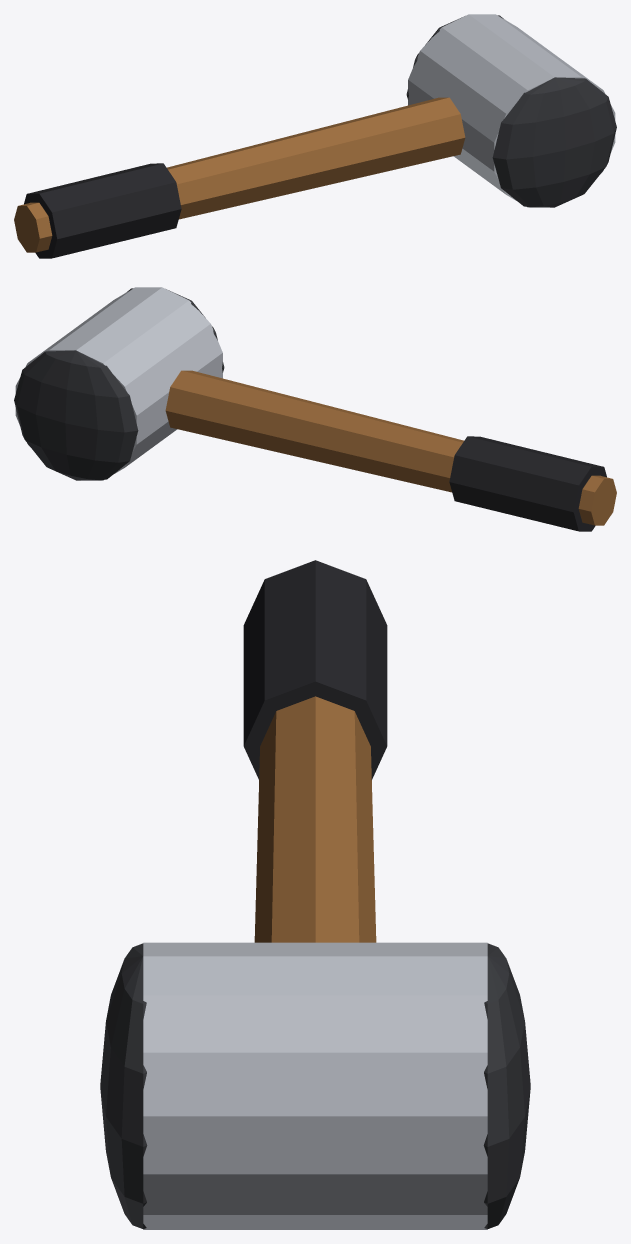
File: garage_dent_hammer.glb
3 views of the same model, one above another, from view 1: azimuth 30°, elevation 25°; view 2: azimuth 150°, elevation 25°; view 3: azimuth 270°, elevation 25° (orthographic). The views are drawn at different scales.
Visible parts, largest first — view 1: handle_wood, head_tool_chrome, faces_lift_dark, grip_flash_black; view 2: handle_wood, head_tool_chrome, faces_lift_dark, grip_flash_black; view 3: head_tool_chrome, handle_wood, grip_flash_black, faces_lift_dark (×2).
Boxes of the visible parts, box(x1,y1,x2,y2) form: handle_wood: box(14, 97, 465, 252); head_tool_chrome: box(408, 14, 615, 207); faces_lift_dark: box(492, 77, 616, 207); grip_flash_black: box(24, 163, 181, 258); handle_wood: box(165, 370, 616, 525); head_tool_chrome: box(15, 287, 222, 480); faces_lift_dark: box(14, 350, 138, 480); grip_flash_black: box(449, 436, 606, 531); head_tool_chrome: box(143, 942, 487, 1229); handle_wood: box(254, 696, 376, 942); grip_flash_black: box(243, 560, 387, 779); faces_lift_dark (×2): box(100, 943, 530, 1229).
Size of the model in its own units: 0.44 by 0.1 by 0.15.
